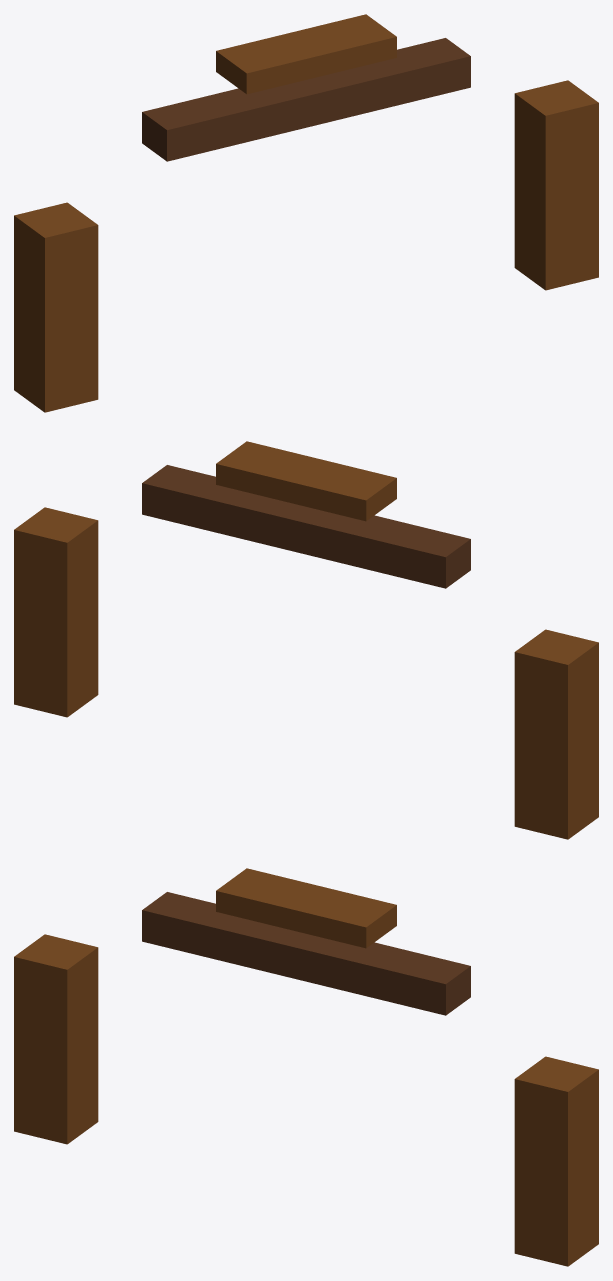
Rendered from gate_wood.glb.
The picture shows the model from 3 angles, top to bottom: view 1: azimuth 30°, elevation 25°; view 2: azimuth 150°, elevation 25°; view 3: azimuth 330°, elevation 25°; orthographic projection.
Parts seen in each view (by area): view 1: Cube; view 2: Cube; view 3: Cube.
Part boxes in pixels (box(x1,y1,x2,y2)): Cube: box(14, 14, 598, 412); Cube: box(14, 441, 598, 839); Cube: box(14, 868, 598, 1266).
Size of the model in its own units: 2.82 by 1.41 by 0.272.
